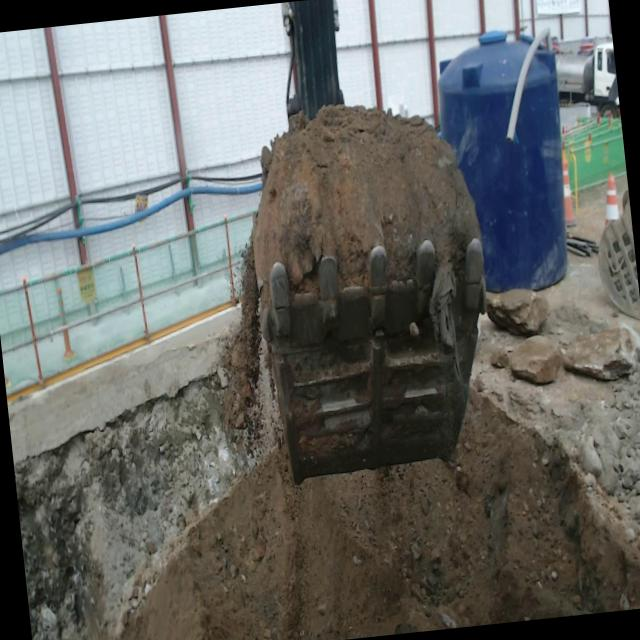red-sand: (120, 390, 640, 640), (252, 104, 480, 297)
stone: (560, 326, 637, 379), (486, 288, 548, 335), (508, 335, 562, 384)
